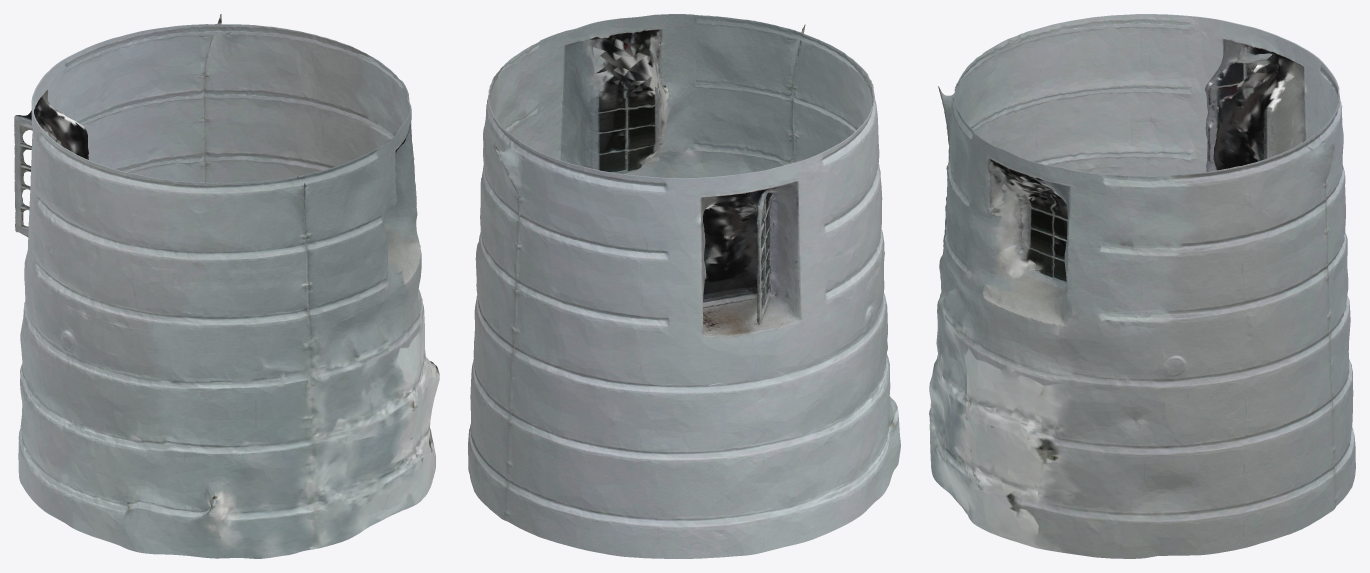
The picture shows the model from 3 angles, left to right: view 1: azimuth 30°, elevation 25°; view 2: azimuth 150°, elevation 25°; view 3: azimuth 270°, elevation 25°; orthographic projection. The views are drawn at different scales.
Visible parts, largest first — view 1: node_25; view 2: node_25; view 3: node_25.
Boxes of the visible parts, bbox=[...] form: node_25: bbox=[14, 14, 439, 558]; node_25: bbox=[468, 14, 900, 558]; node_25: bbox=[929, 14, 1355, 558].
Bounding box in the file's own units: 3.84 × 3.74 × 3.88.
1 material, 1 textured.
